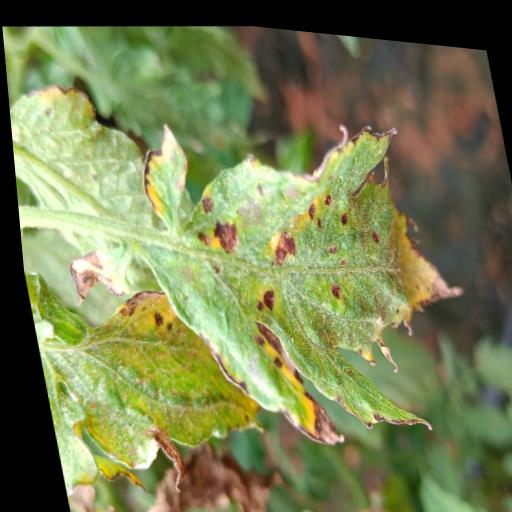Early Blight: (113, 85, 489, 476), (19, 255, 272, 491)
